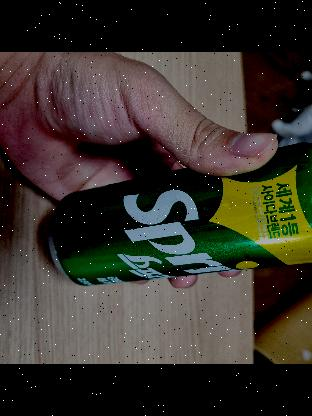Can: (49, 142, 312, 294)
